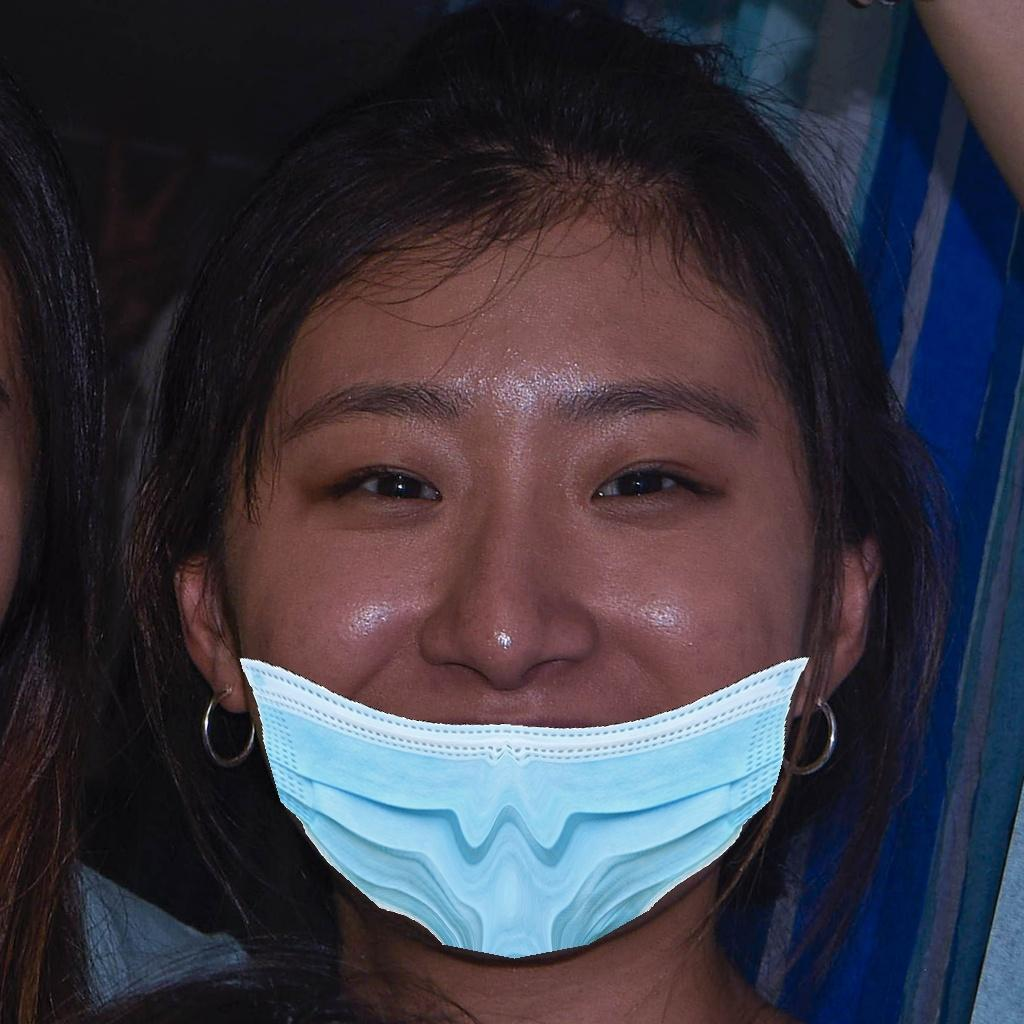Máscara Incorreta: (238, 255, 806, 929)
